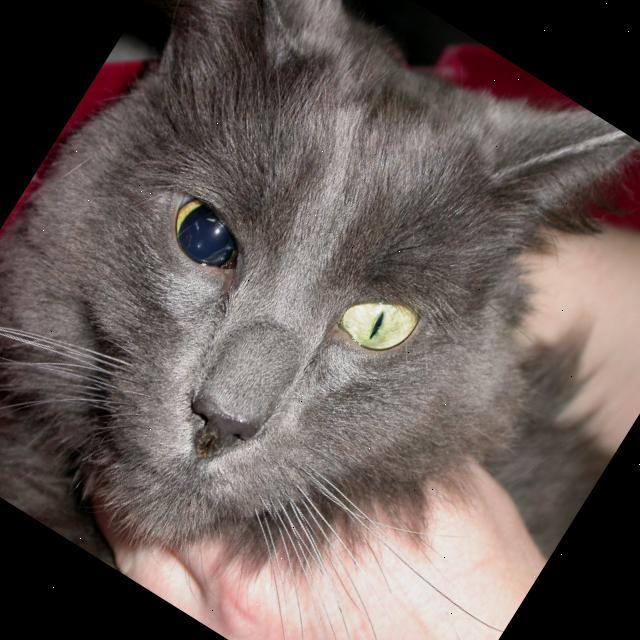cat-eye: (304, 237, 460, 404)
cat-eye-normal: (117, 147, 280, 310)
